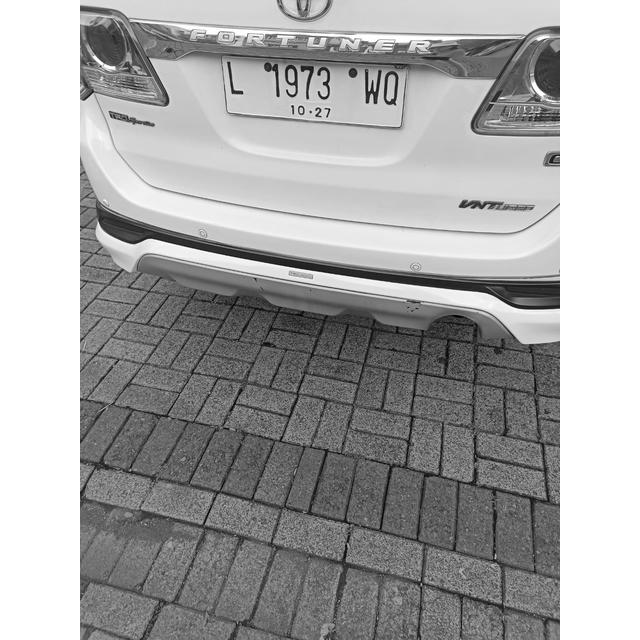license: (222, 56, 403, 123)
